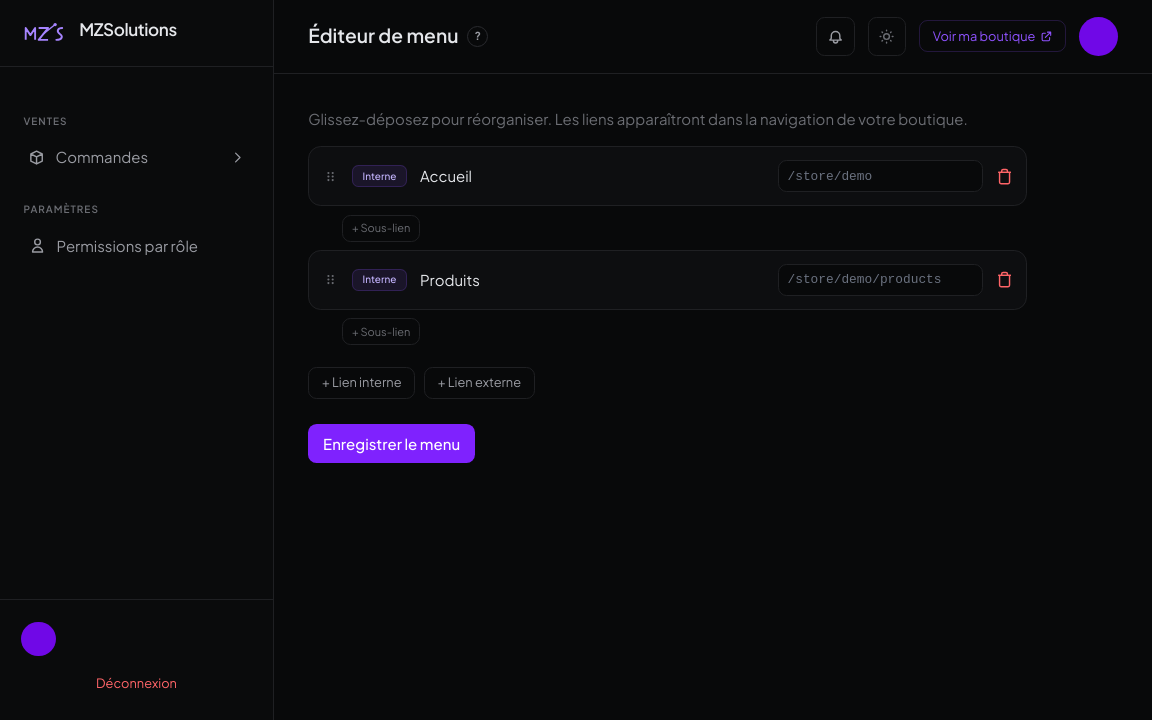
Scenario: MenuPage › saves the menu and shows a confirmation
Expected: the 1st field showing "Accueil" is shown, left=420, top=163, right=765, bottom=190
Click the button "Enregistrer le menu".
click(392, 444)  # box left=308, top=424, right=475, bottom=463
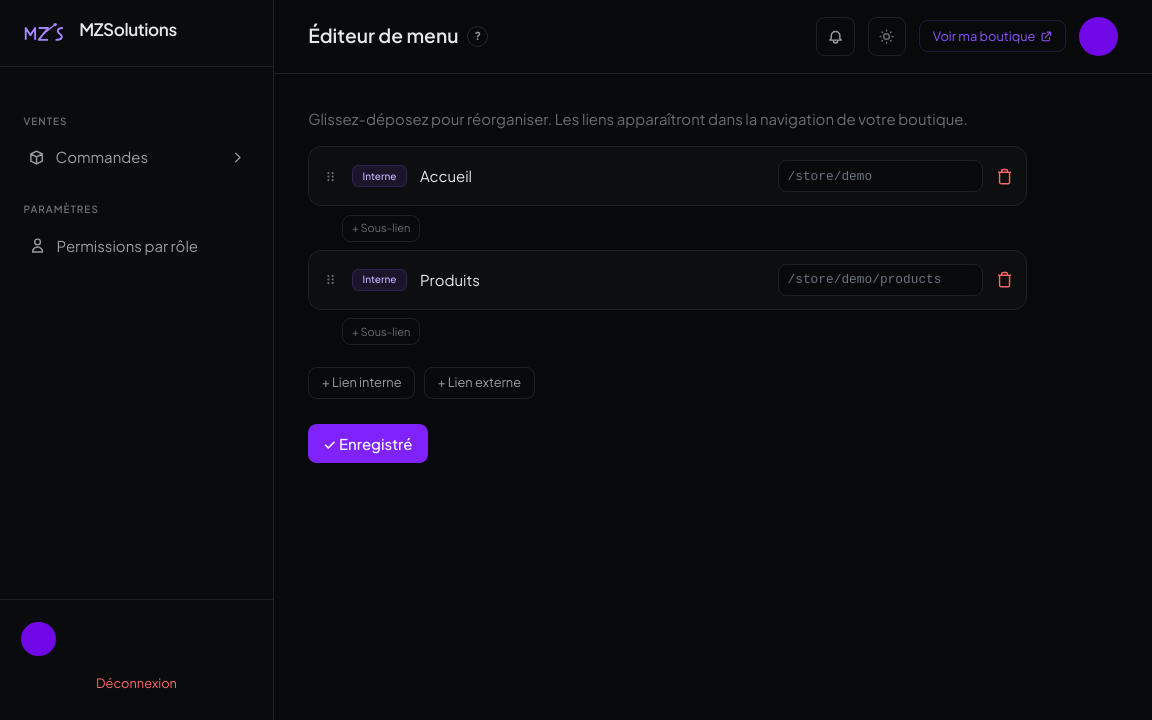
Expected: the button "✓ Enregistré" is shown, left=308, top=424, right=428, bottom=463
